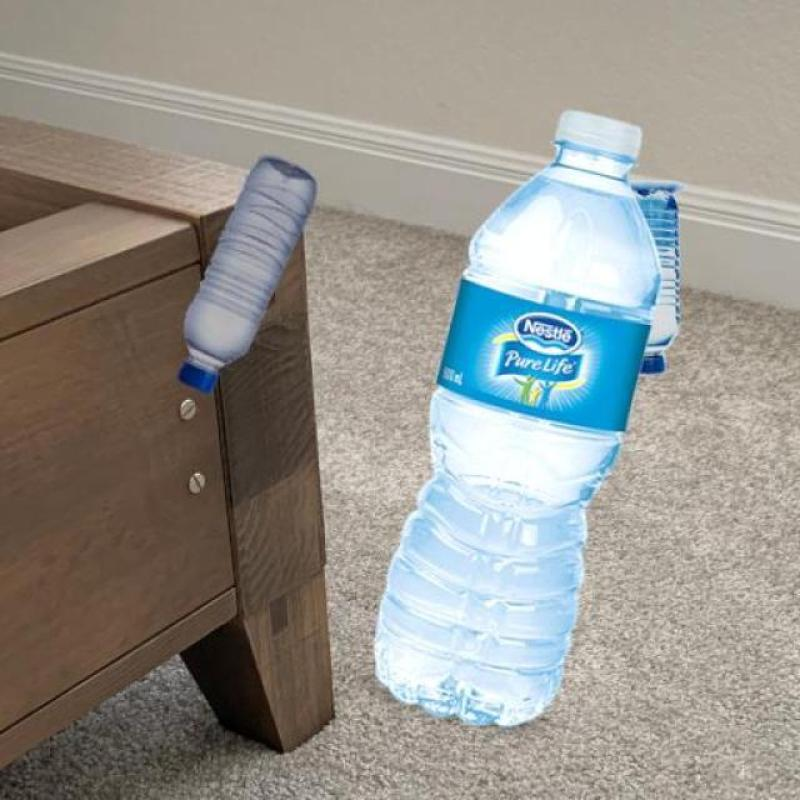botella: (369, 109, 663, 727), (176, 159, 319, 390), (639, 191, 676, 377)
